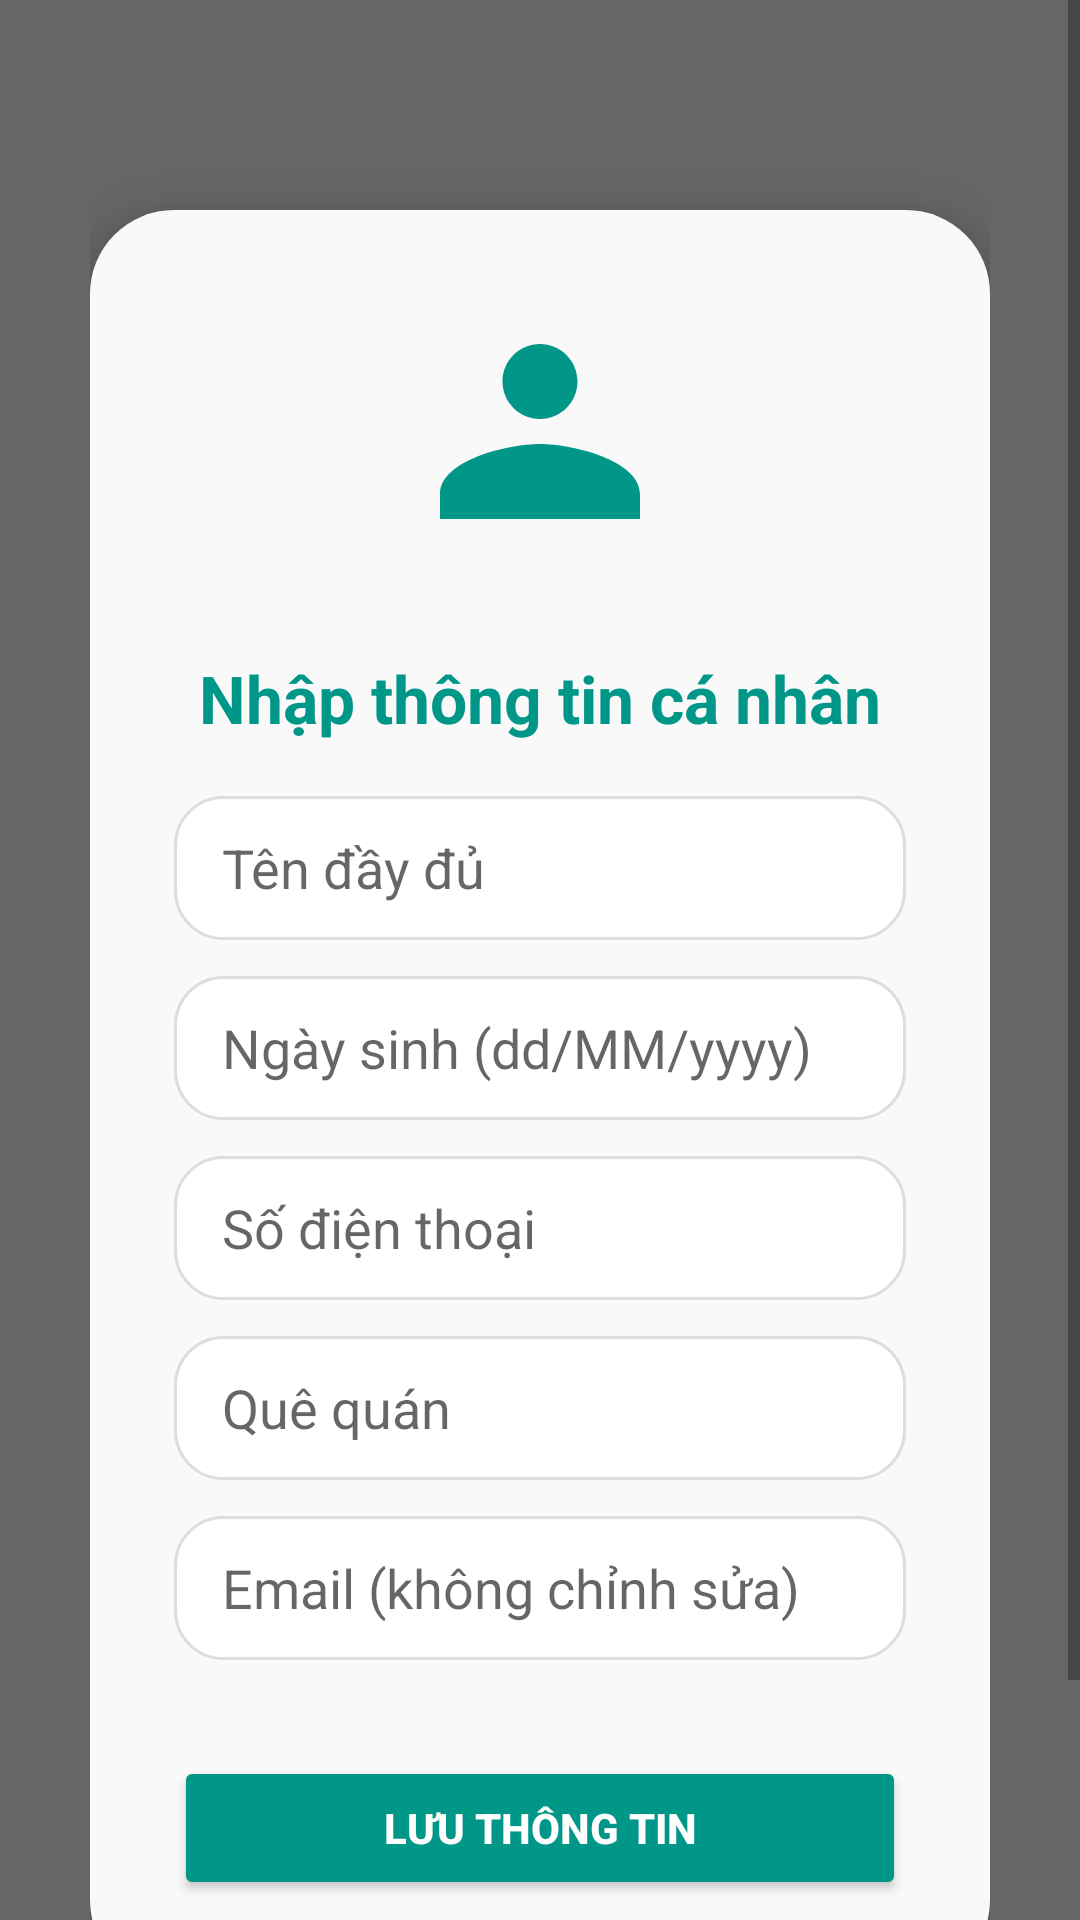

Icon bounding boxes for this 1080 x 1920 phone screenshot, format detection(x1, y1, x2, y2):
Ảnh đại diện: detection(440, 344, 640, 519)
